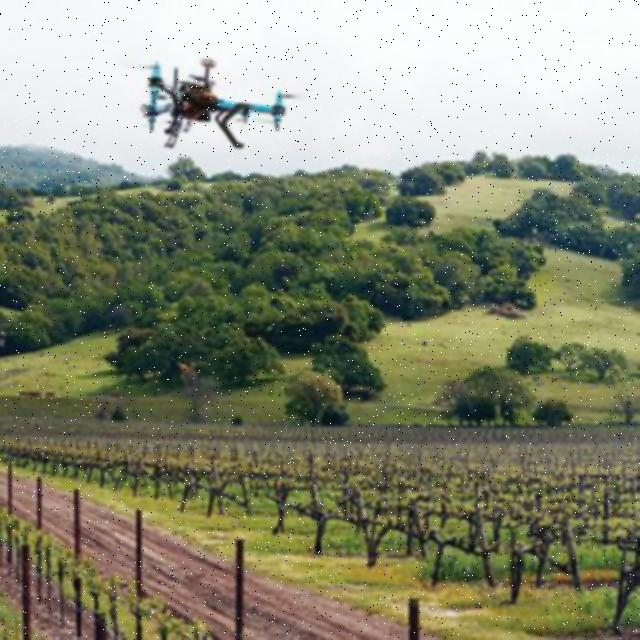UAV: (137, 61, 299, 150)
